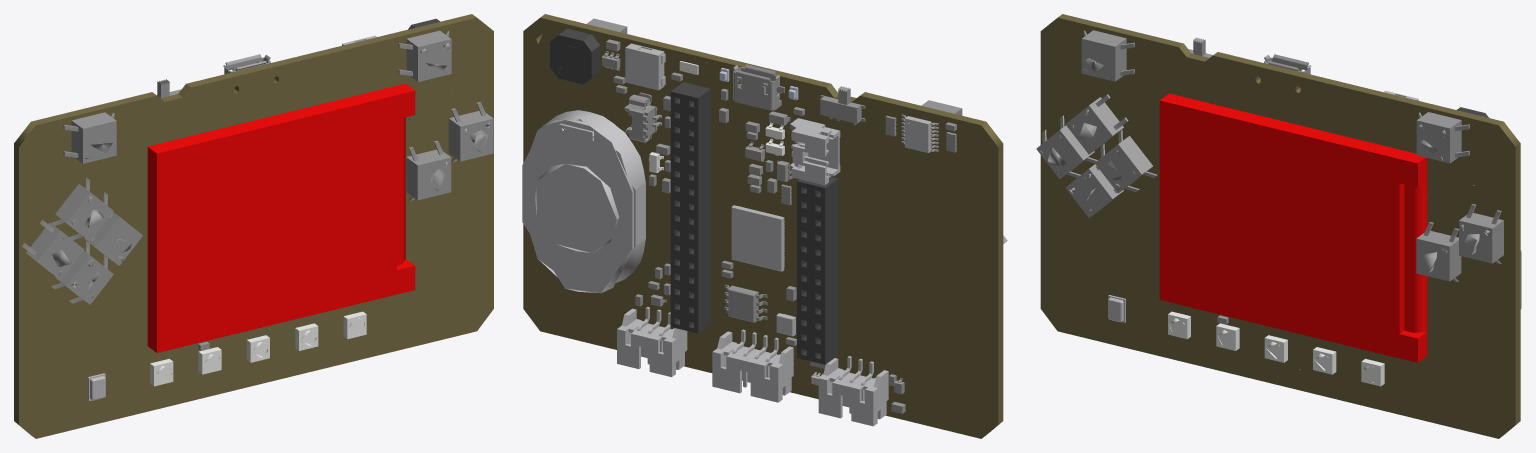
File: ada-4400.glb
3 renders of one model, left to right at view 1: azimuth 30°, elevation 25°; view 2: azimuth 150°, elevation 25°; view 3: azimuth 330°, elevation 25°, orthographic.
Visible parts, largest first — view 1: 0.16666666666666666_0.16666666666666666_0.08333333333333333_, 1_0_0_0, 0.3333333333333333_0.3333333333333333_0.3333333333333333_0, 0.9166666666666666_0.9166666666666666_0.9166666666666666_0.8, 0.5833333333333334_0.5833333333333334_0.5833333333333334_0.8; view 2: 0.16666666666666666_0.16666666666666666_0.08333333333333333_, 0.5833333333333334_0.5833333333333334_0.5833333333333334_0.8, 0.08333333333333333_0.08333333333333333_0.08333333333333333_, 0.3333333333333333_0.3333333333333333_0.3333333333333333_0, 0.9166666666666666_0.9166666666666666_0.9166666666666666_0.8; view 3: 0.16666666666666666_0.16666666666666666_0.08333333333333333_, 1_0_0_0, 0.3333333333333333_0.3333333333333333_0.3333333333333333_0, 0.9166666666666666_0.9166666666666666_0.9166666666666666_0.8, 0.5833333333333334_0.5833333333333334_0.5833333333333334_0.8.
Part boxes in pixels (x1,y1,x2,y2): 0.16666666666666666_0.16666666666666666_0.08333333333333333_: (14, 14, 493, 438); 1_0_0_0: (147, 83, 415, 352); 0.3333333333333333_0.3333333333333333_0.3333333333333333_0: (22, 30, 493, 350); 0.9166666666666666_0.9166666666666666_0.9166666666666666_0.8: (150, 311, 366, 386); 0.5833333333333334_0.5833333333333334_0.5833333333333334_0.8: (87, 35, 376, 400); 0.16666666666666666_0.16666666666666666_0.08333333333333333_: (523, 14, 1003, 438); 0.5833333333333334_0.5833333333333334_0.5833333333333334_0.8: (522, 43, 938, 426); 0.08333333333333333_0.08333333333333333_0.08333333333333333_: (550, 28, 837, 364); 0.3333333333333333_0.3333333333333333_0.3333333333333333_0: (587, 18, 1007, 413); 0.9166666666666666_0.9166666666666666_0.9166666666666666_0.8: (648, 61, 784, 173); 0.16666666666666666_0.16666666666666666_0.08333333333333333_: (1040, 14, 1520, 438); 1_0_0_0: (1159, 93, 1427, 362); 0.3333333333333333_0.3333333333333333_0.3333333333333333_0: (1036, 30, 1503, 324); 0.9166666666666666_0.9166666666666666_0.9166666666666666_0.8: (1168, 311, 1384, 386); 0.5833333333333334_0.5833333333333334_0.5833333333333334_0.8: (1108, 90, 1521, 322).
Bounding box in the file's own units: 8.57 × 5.51 × 1.16.
